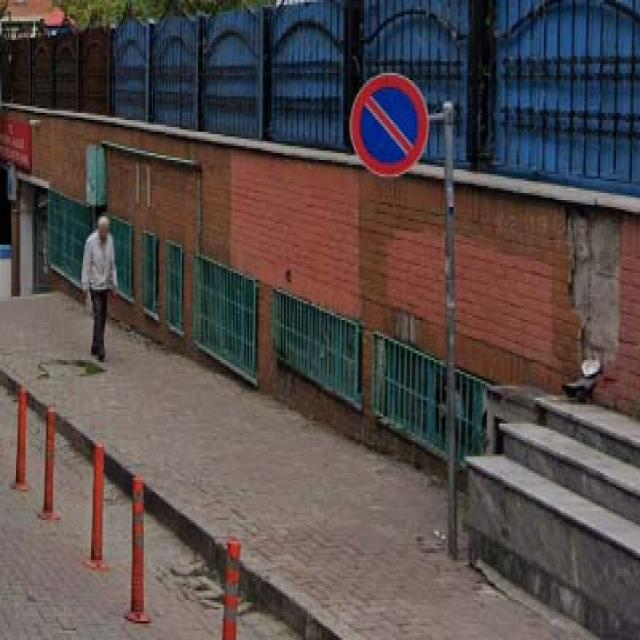parkyasak: (350, 73, 430, 176)
